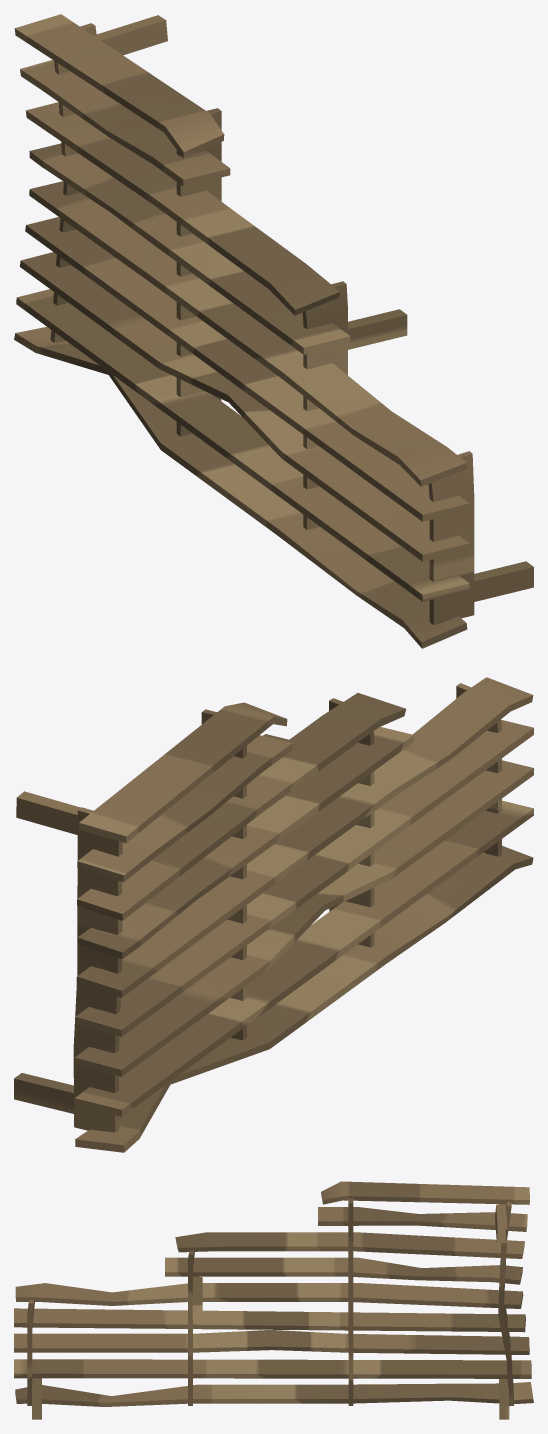
The model's file is SM_Veh_Attach_Tank_Armour_02.fbx.
The picture shows the model from 3 angles, top to bottom: view 1: azimuth 30°, elevation 25°; view 2: azimuth 150°, elevation 25°; view 3: azimuth 270°, elevation 25°; orthographic projection. The views are drawn at different scales.
Visible parts, largest first — view 1: SM_Veh_Attach_Tank_Armour_02; view 2: SM_Veh_Attach_Tank_Armour_02; view 3: SM_Veh_Attach_Tank_Armour_02.
Boxes of the visible parts, left/top/right/bottom form: SM_Veh_Attach_Tank_Armour_02: left=14, top=14, right=533, bottom=648; SM_Veh_Attach_Tank_Armour_02: left=14, top=677, right=533, bottom=1152; SM_Veh_Attach_Tank_Armour_02: left=14, top=1181, right=533, bottom=1419.
Bounding box in the file's own units: 31.38 × 79.71 × 174.
